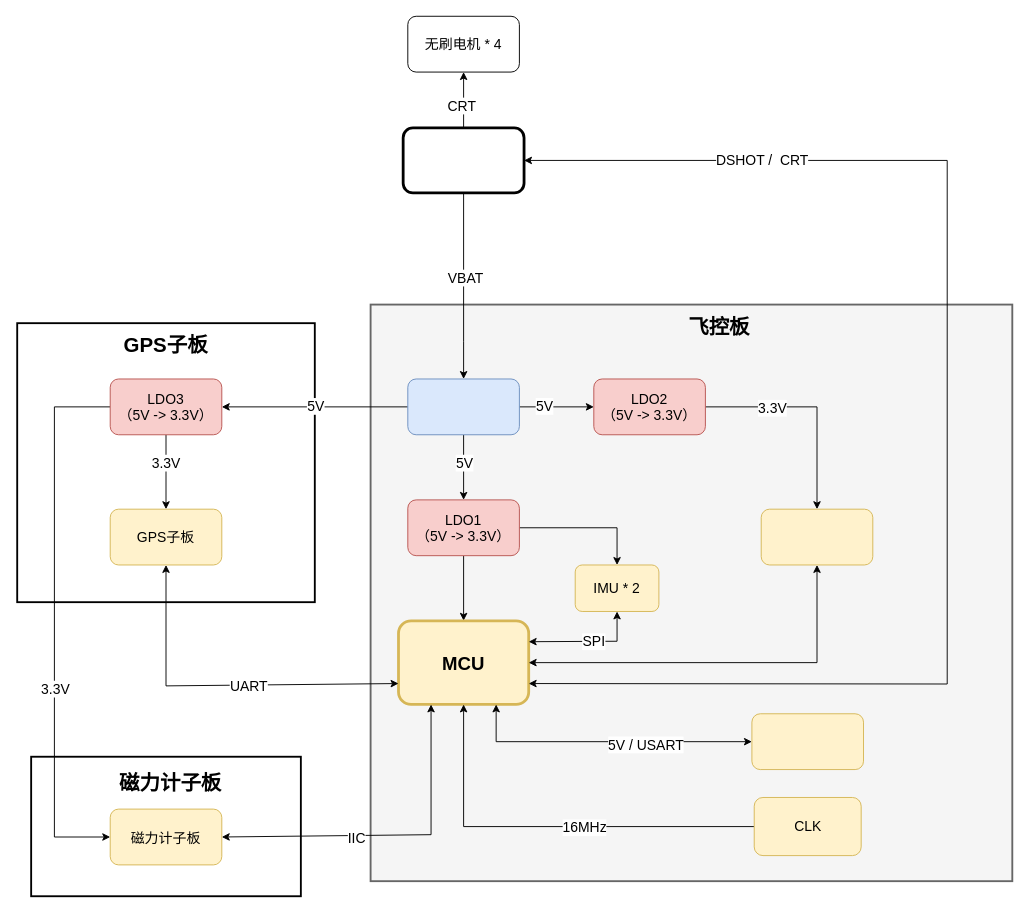
This 1029x913 diagram has some shape labels left out. Each missing label, with the box of its shape:
Buck （4-6S -> 5V）: (407, 378, 519, 435)
SD Card: (760, 508, 873, 565)
串口: (751, 713, 864, 770)
电调板: (401, 126, 525, 194)
